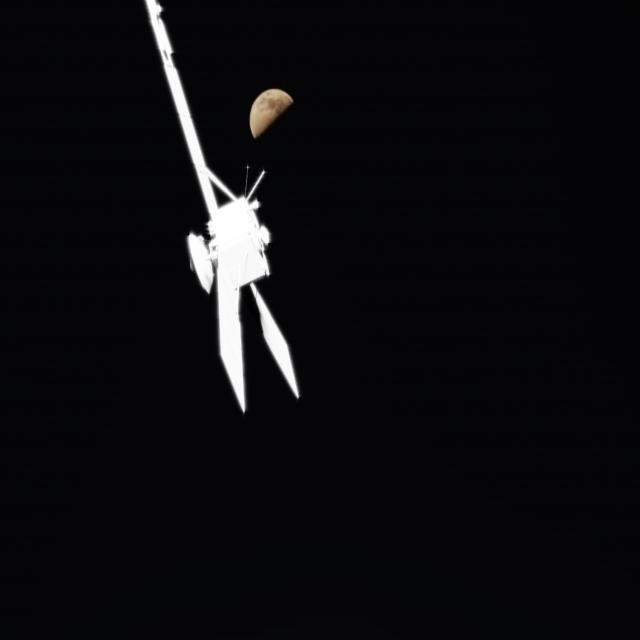satellite: (124, 0, 308, 427)
